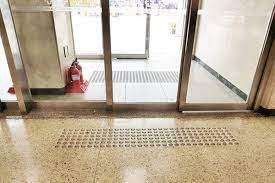guide_blocks: (56, 126, 238, 147)
